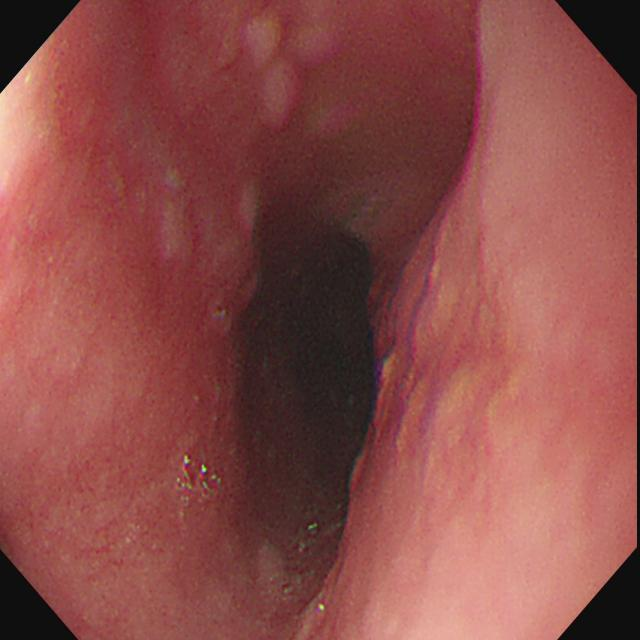A: (359, 245, 512, 487), (160, 177, 290, 345)
E: (229, 205, 381, 575)
J: (257, 545, 285, 603)
T: (177, 453, 226, 513)
